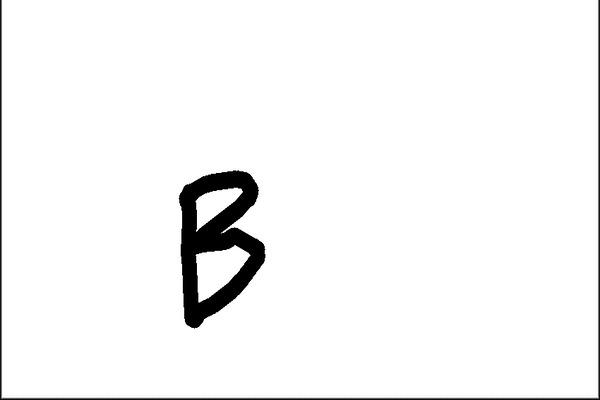B: (167, 165, 275, 337)
